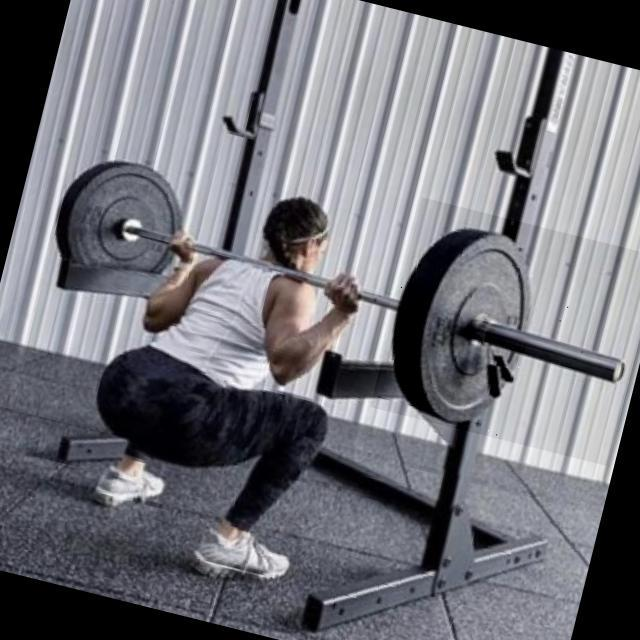barbell: (370, 198, 640, 467)
